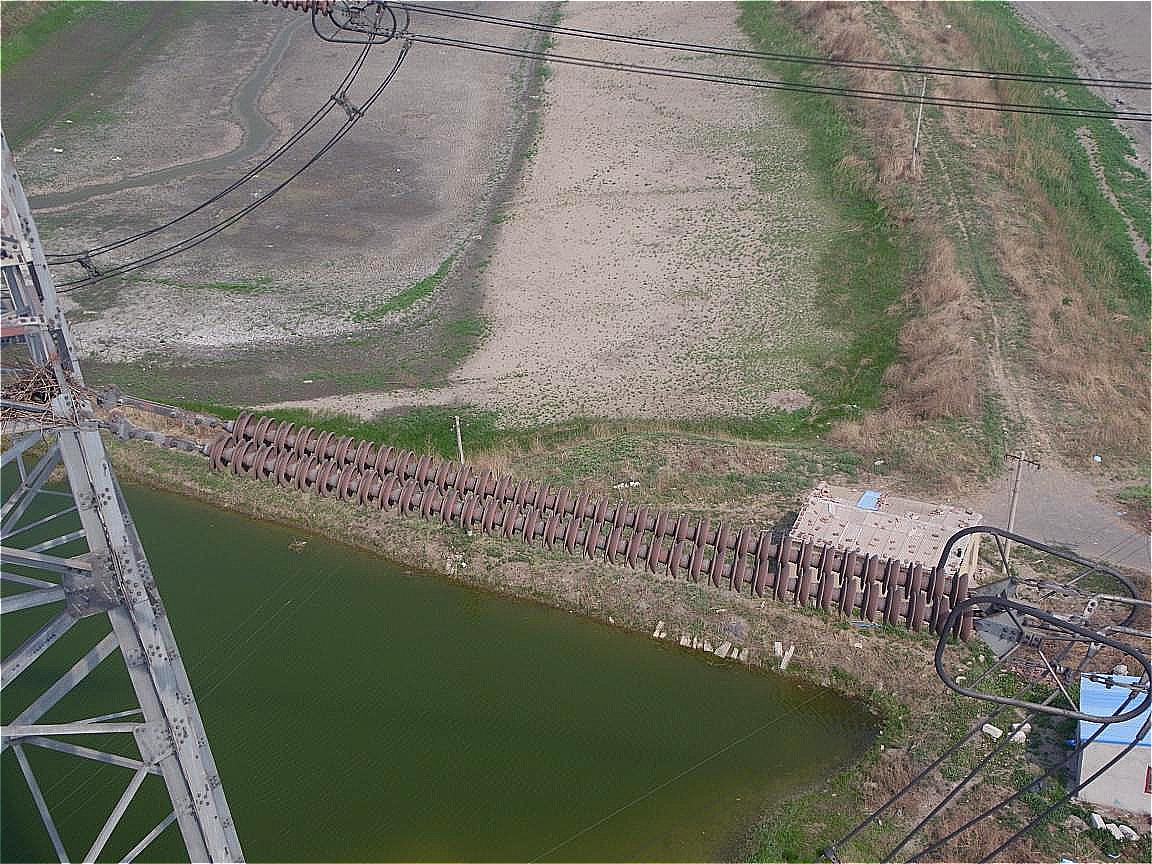insultor2: (148, 411, 1003, 644)
